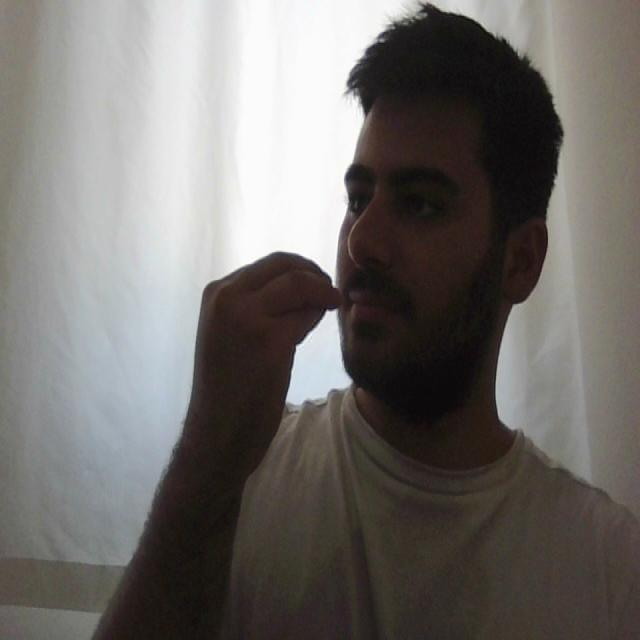Yemek: (175, 242, 394, 337)
